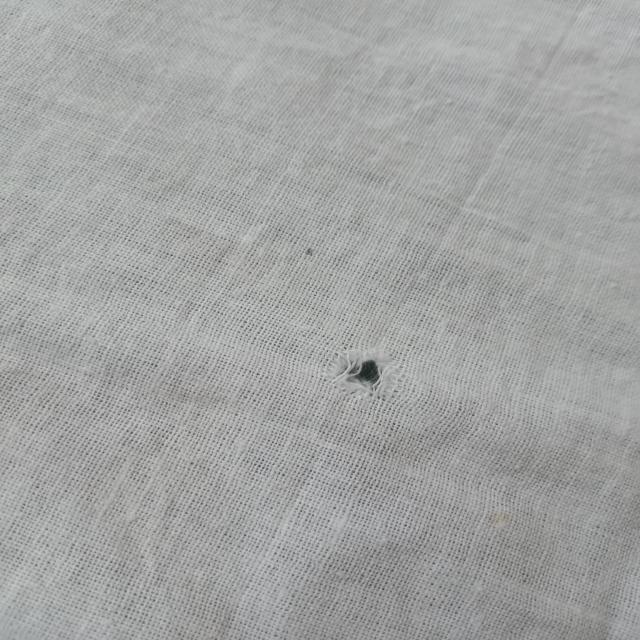cut: (333, 350, 399, 393)
